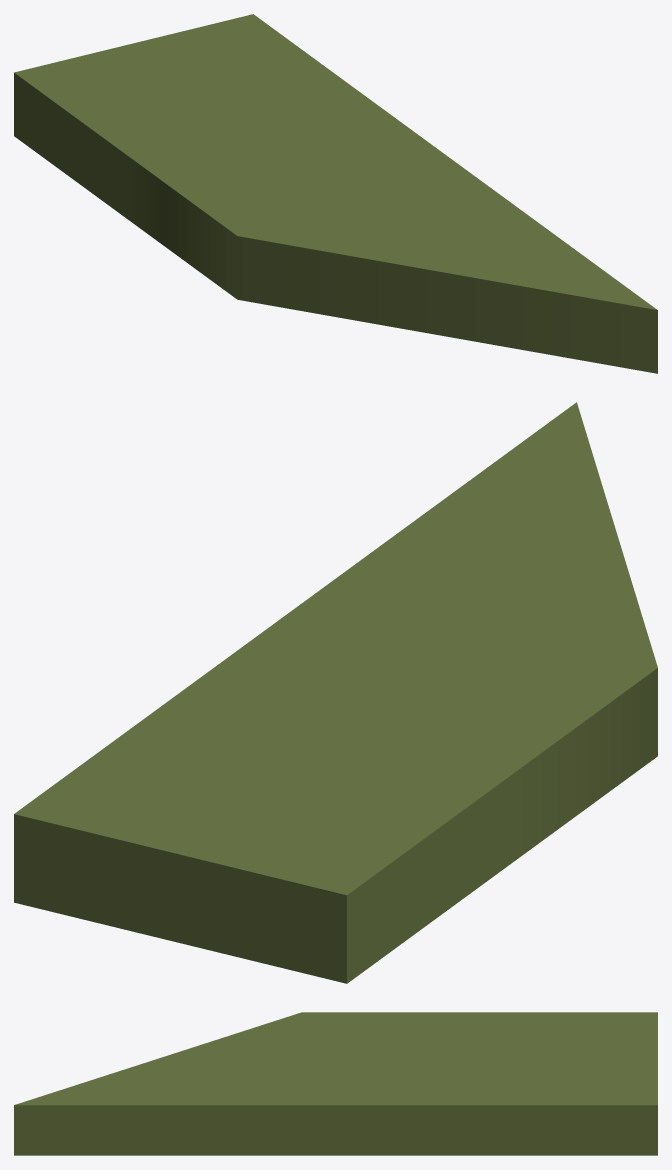
Rendered from ground_1.fbx.
3 views of the same model, one above another, from view 1: azimuth 30°, elevation 25°; view 2: azimuth 150°, elevation 25°; view 3: azimuth 270°, elevation 25° (orthographic). The views are drawn at different scales.
Parts seen in each view (by area): view 1: ground_01; view 2: ground_01; view 3: ground_01.
Boxes of the visible parts, x1,y1,x2,y2 form: ground_01: (14,14,657,373); ground_01: (14,402,657,983); ground_01: (14,1012,657,1155).
Bounding box in the file's own units: 9.6 × 2.44 × 28.09.
